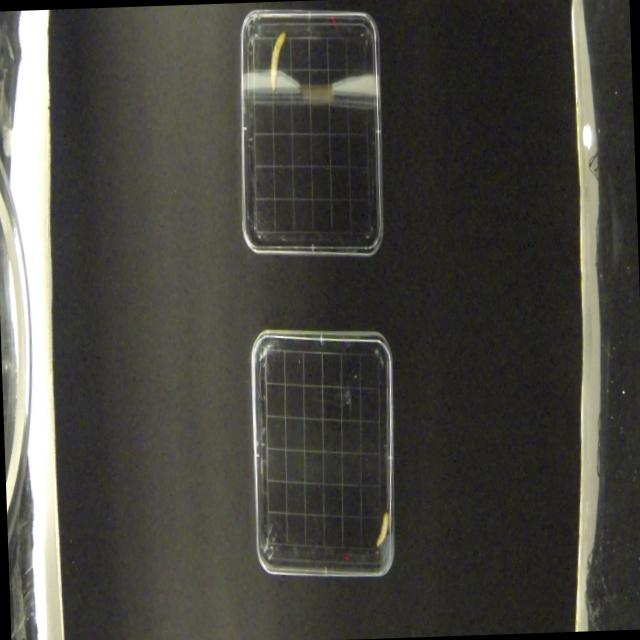larva: (267, 28, 289, 94), (374, 506, 391, 552)
